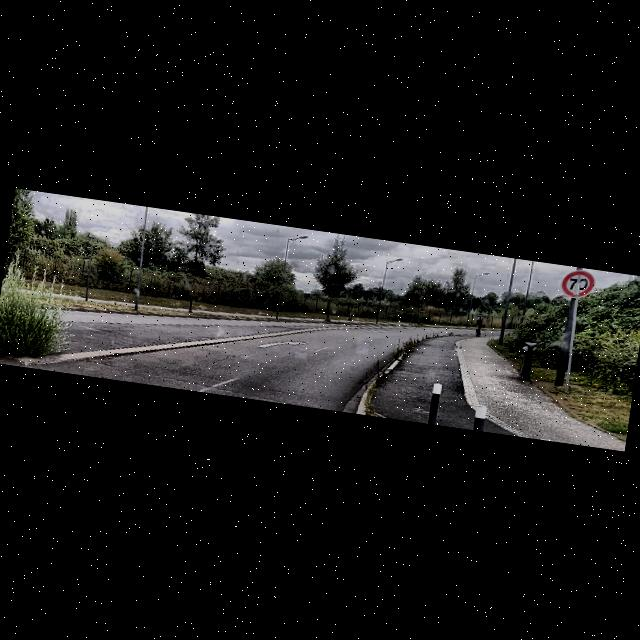speed_70: (560, 268, 597, 299)
